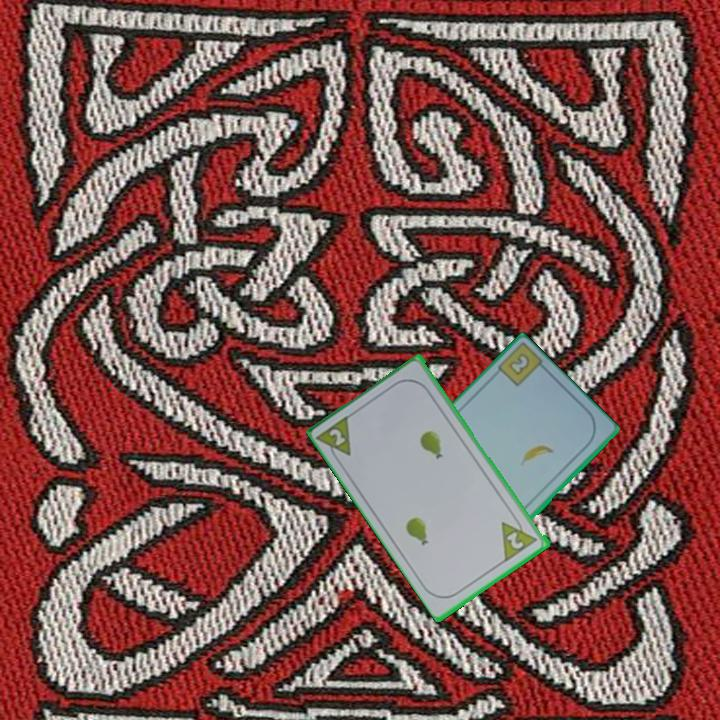2b: (505, 350, 533, 379)
2p: (314, 411, 355, 467), (503, 528, 527, 552)
